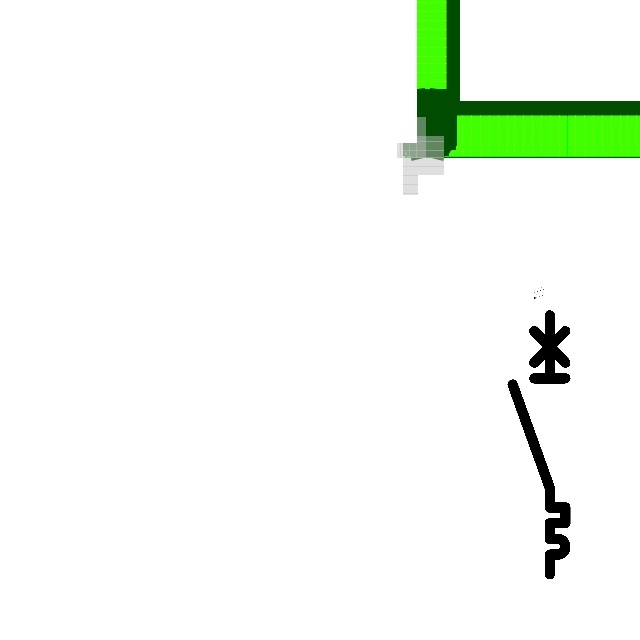interruptor_termomagnetico: (506, 308, 572, 580)
